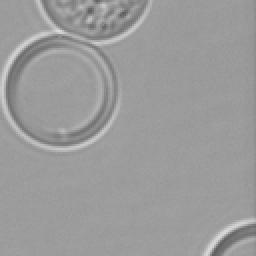picoshell: (2, 32, 116, 148), (34, 0, 150, 44), (202, 216, 254, 254)
